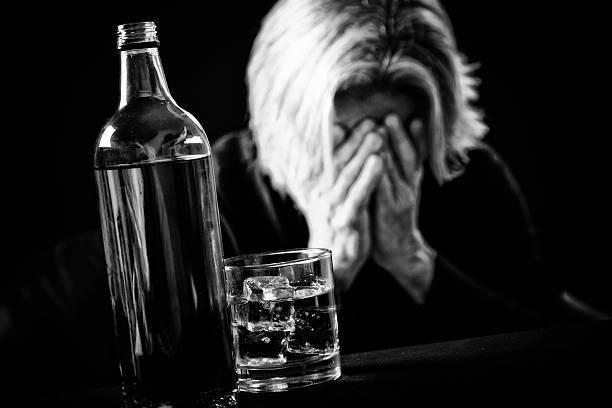bottle-glass: (90, 17, 231, 407)
glass-normal: (218, 244, 344, 394)
